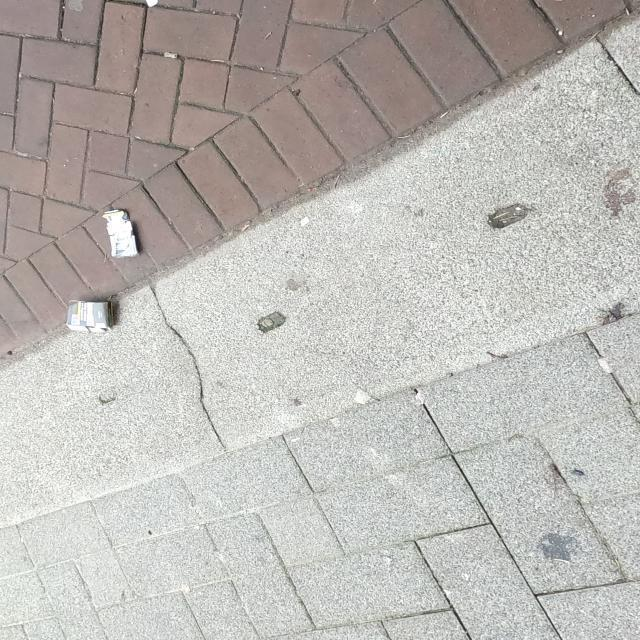Paper: (100, 208, 140, 258), (66, 300, 114, 333)
